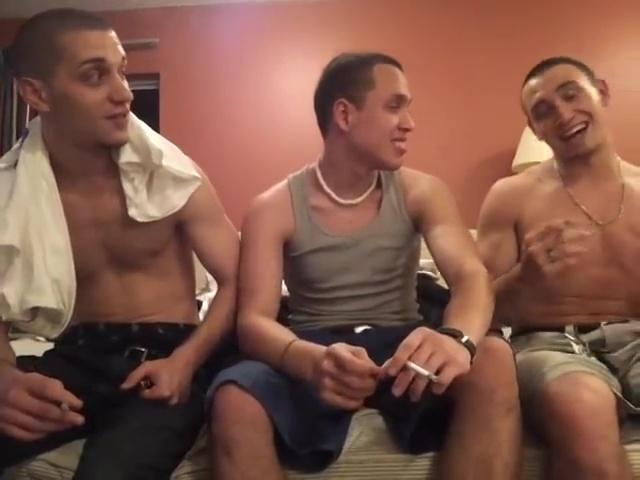cigarette: (406, 360, 441, 388), (57, 403, 71, 415)
